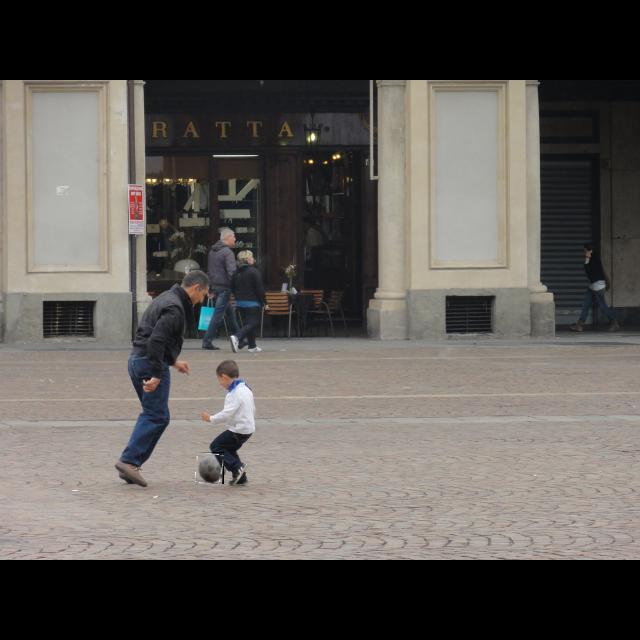Football: (196, 452, 224, 484)
